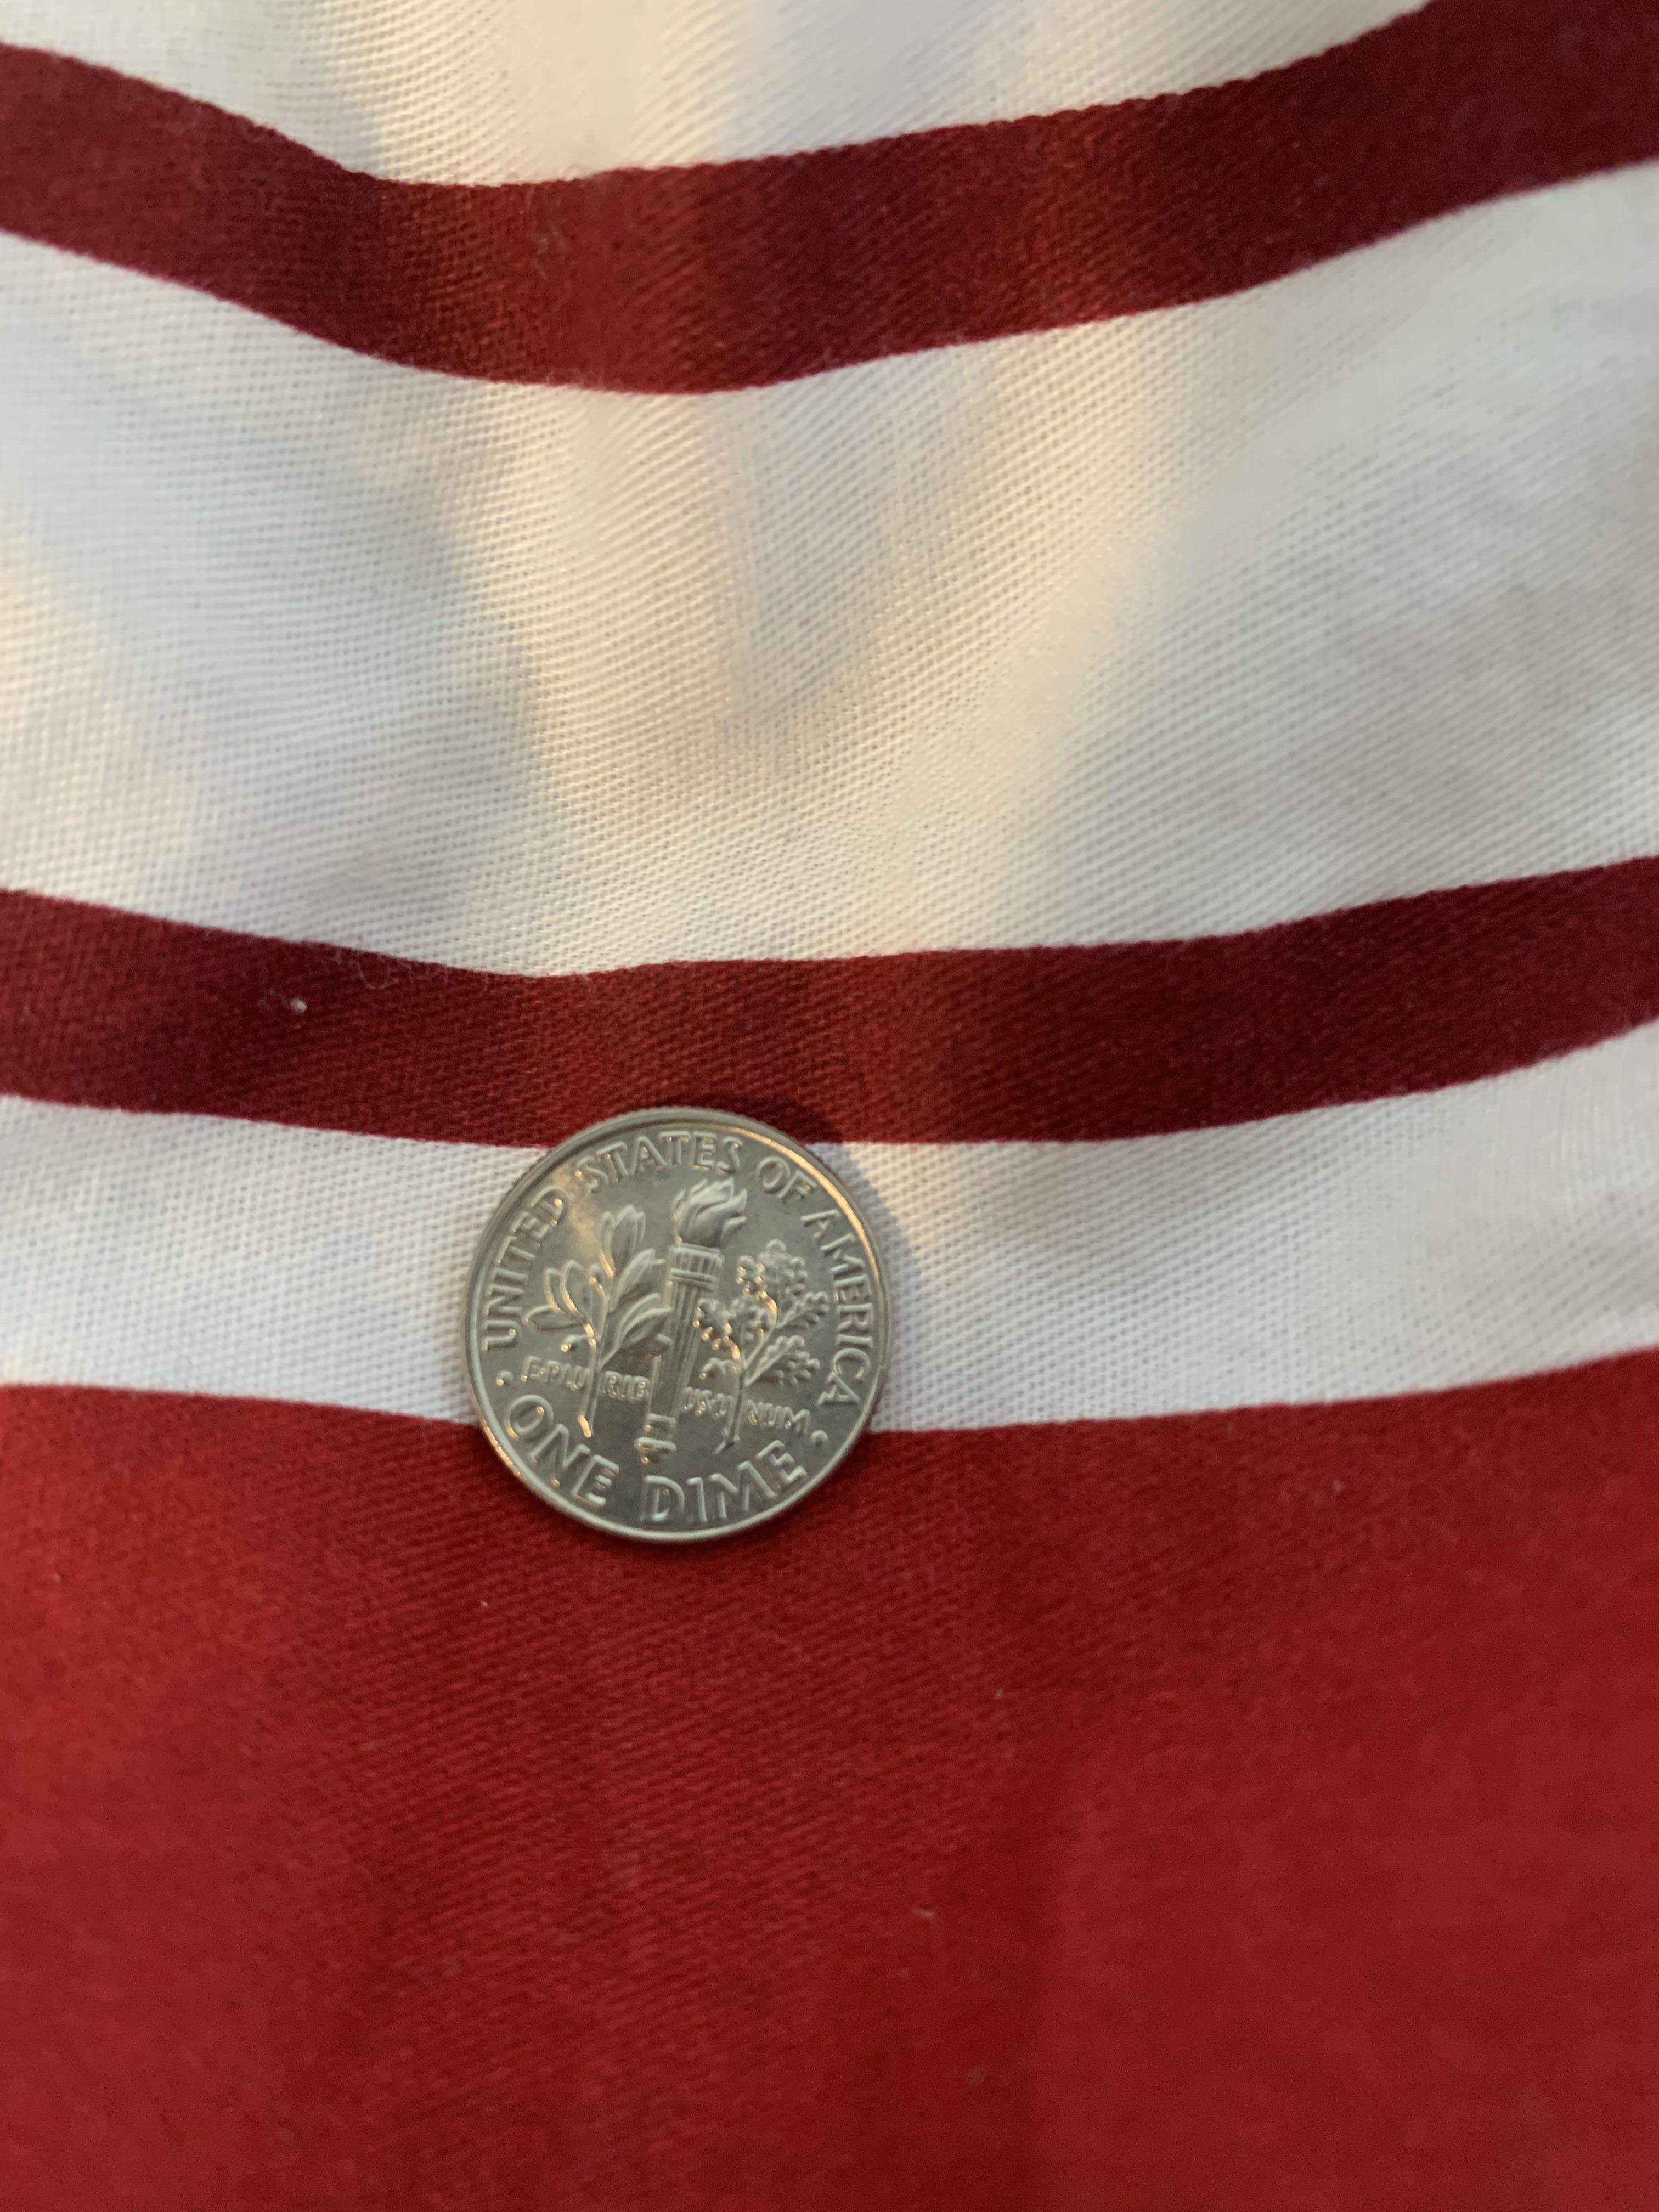Dime: (448, 1094, 915, 1555)
